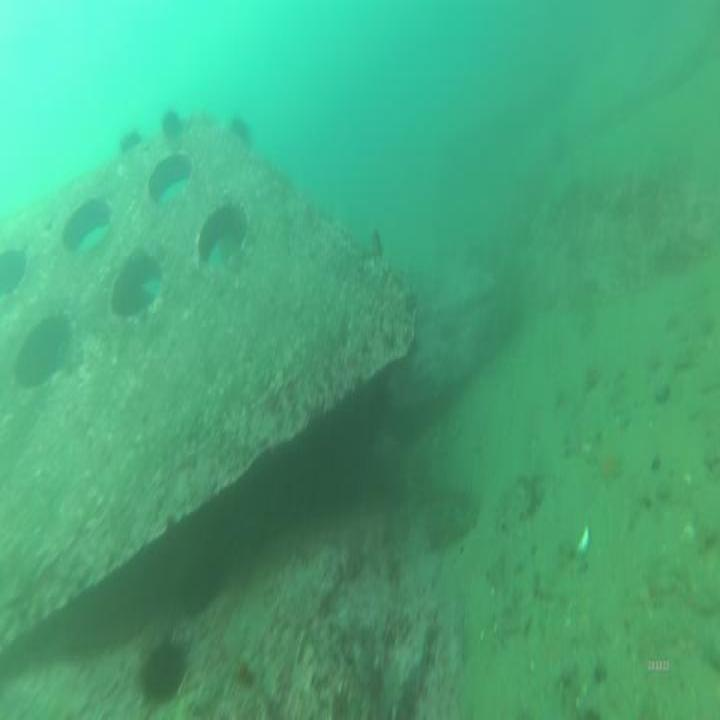echinus: (161, 110, 185, 146), (118, 123, 142, 158), (228, 114, 251, 149)
starfish: (141, 635, 186, 709), (595, 452, 624, 490)
